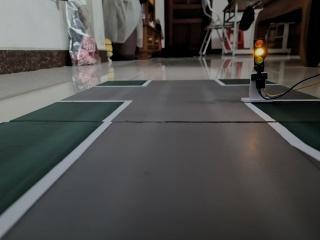yellow: (246, 35, 272, 73)
